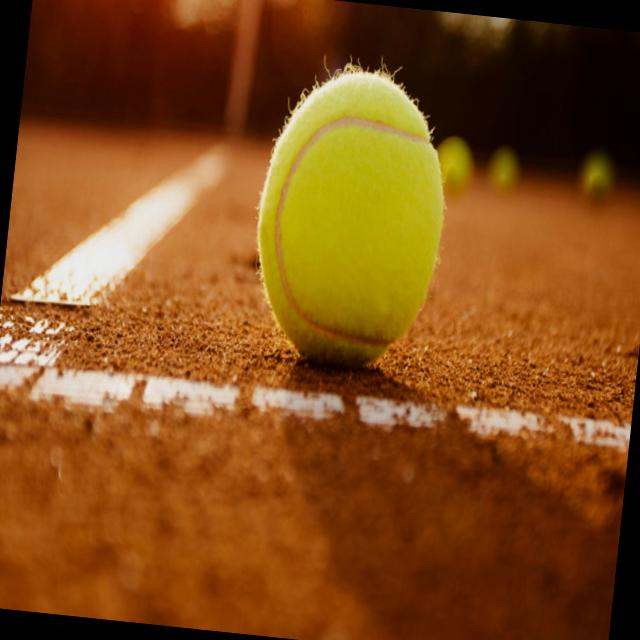Tennis Ball: (258, 73, 444, 367), (436, 137, 476, 194), (577, 151, 617, 208), (484, 145, 522, 194)
